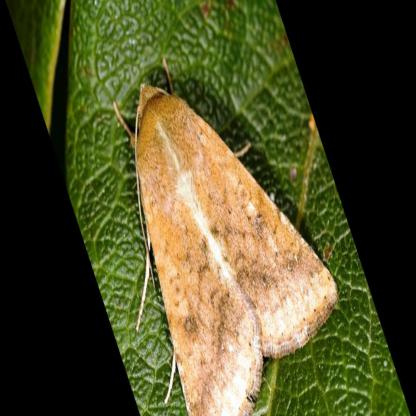helicoverpa: (137, 81, 337, 415)
